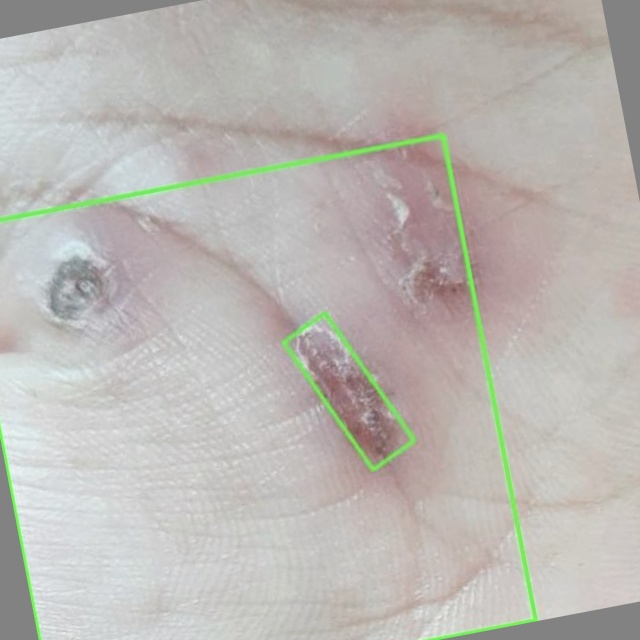Scabies: (0, 135, 535, 639), (283, 312, 415, 468)
